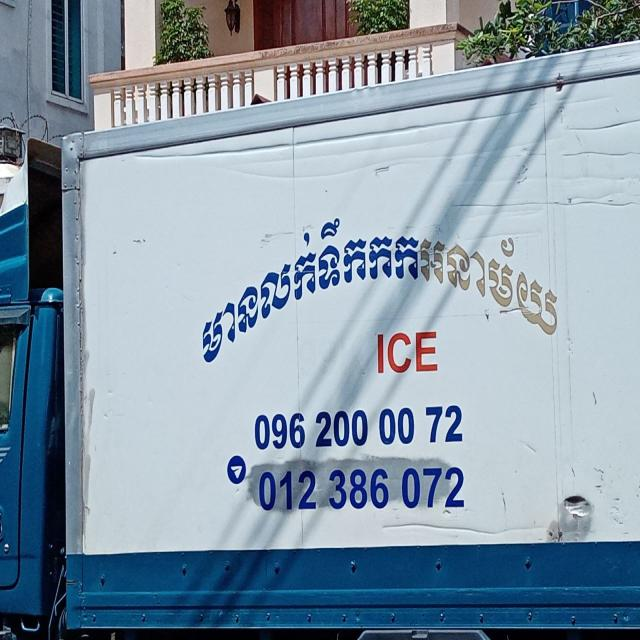Yolov11_80vkh: (179, 191, 584, 397)
